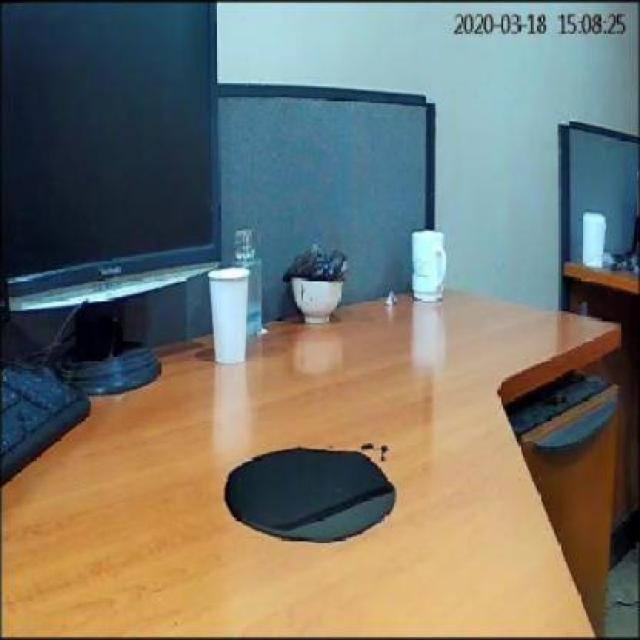spillage: (223, 448, 397, 546)
